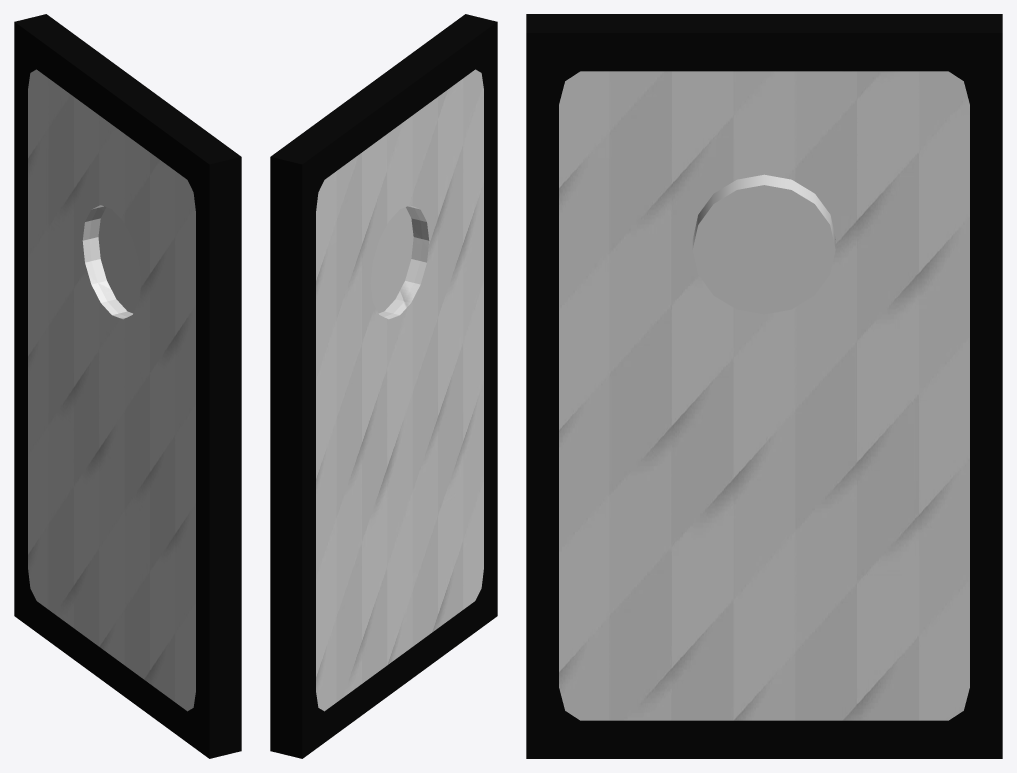
The model's file is Door.fbx.
3 views of the same model, side by side, from view 1: azimuth 30°, elevation 25°; view 2: azimuth 150°, elevation 25°; view 3: azimuth 270°, elevation 25° (orthographic). The views are drawn at different scales.
Parts seen in each view (by area): view 1: puerta, Espejo; view 2: puerta, Espejo; view 3: puerta, Espejo.
Boxes of the visible parts, <box> form: puerta: <box>14,14,241,758</box>; Espejo: <box>98,207,141,313</box>; puerta: <box>270,14,497,758</box>; Espejo: <box>370,207,413,313</box>; puerta: <box>526,14,1002,758</box>; Espejo: <box>692,174,835,314</box>.
Bounding box in the file's own units: 56.67 × 653 × 388.
